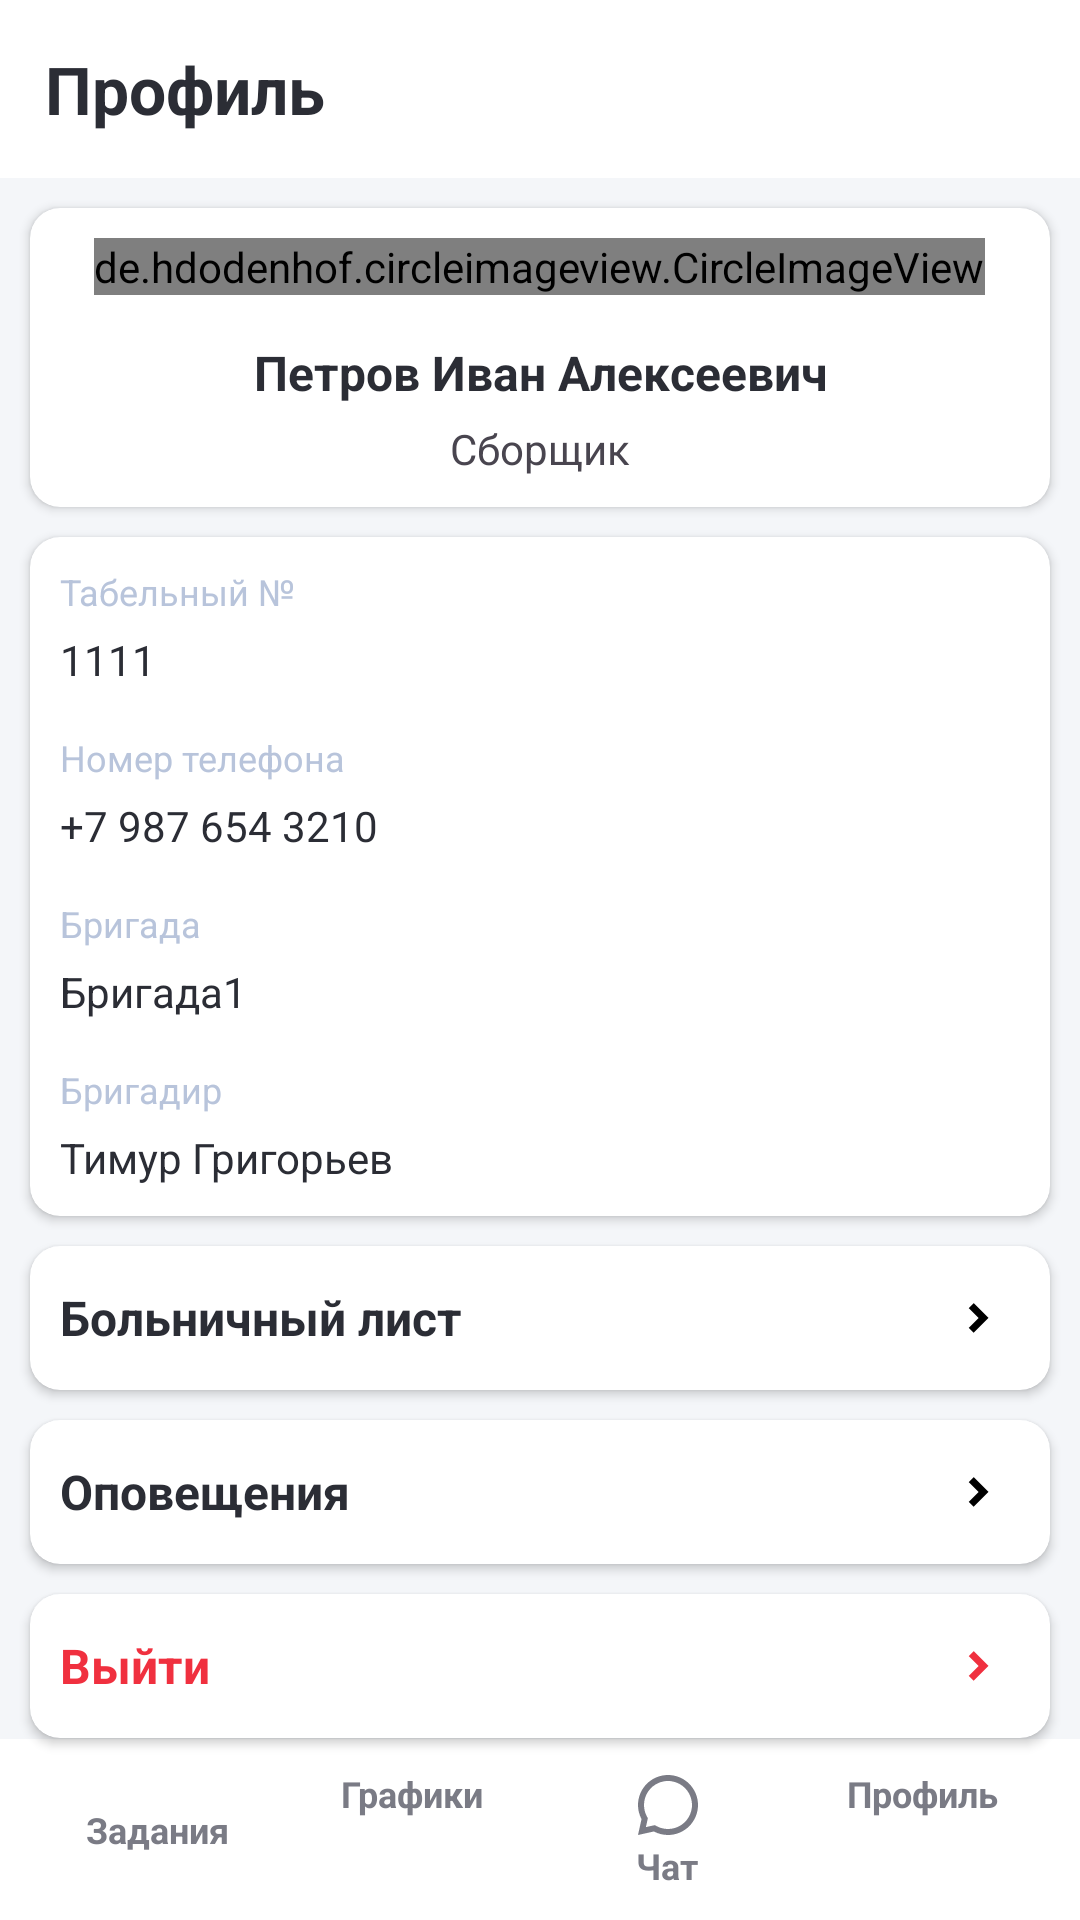

Screen size 1080x1920. Icon name, then its center in pixels as (x=x, y=y):
arrow right: (x=979, y=1318), (x=979, y=1492), (x=979, y=1666)
